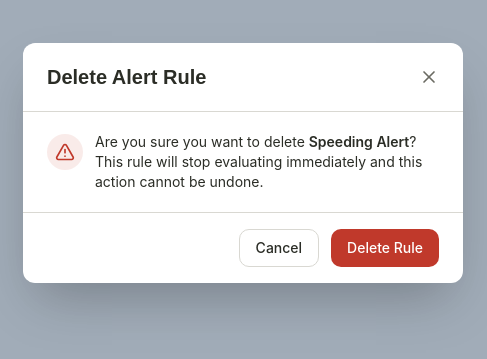
DeleteAlertRuleModal › shows error and toast when delete fails
Click the button "Delete Rule" at (385, 248), box left=331, top=229, right=439, bottom=267
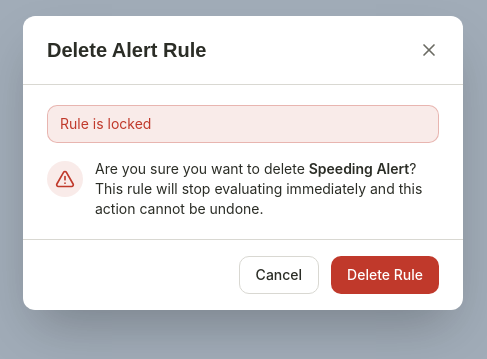
Result: the text "Rule is locked" is shown at left=47, top=105, right=439, bottom=143
